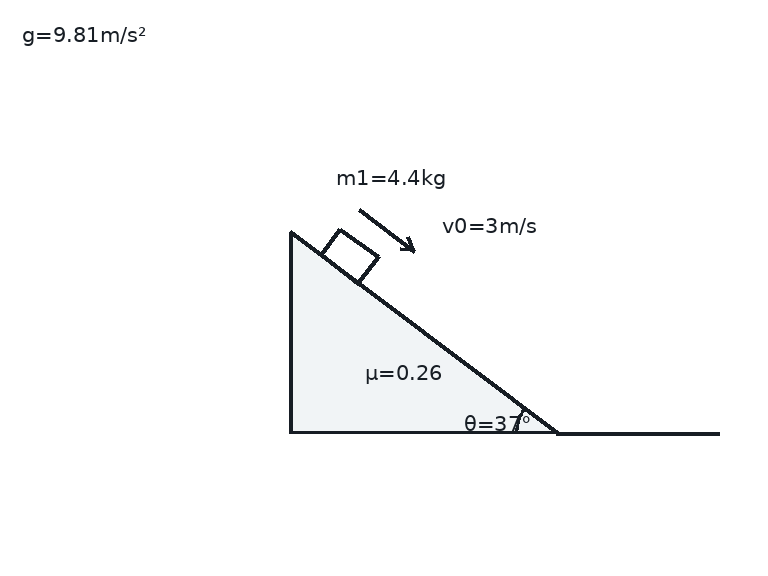block: (318, 226, 380, 285)
ramp: (287, 230, 558, 435)
